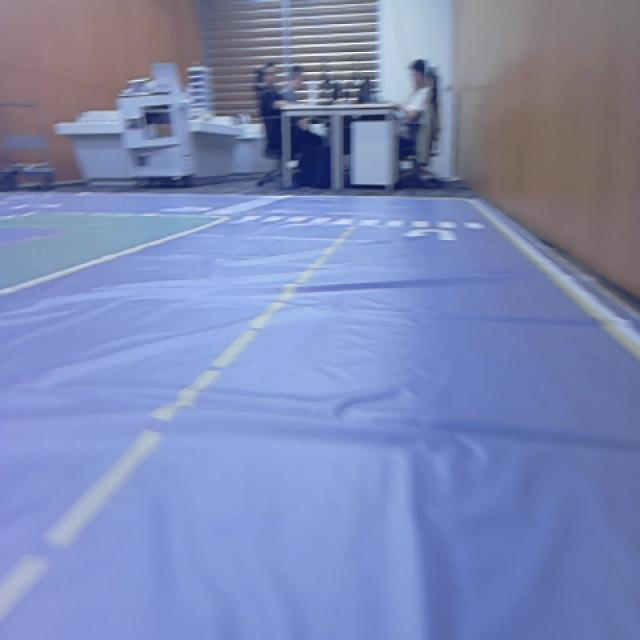left_lane: (2, 233, 350, 622)
right_lane: (468, 200, 640, 365)
